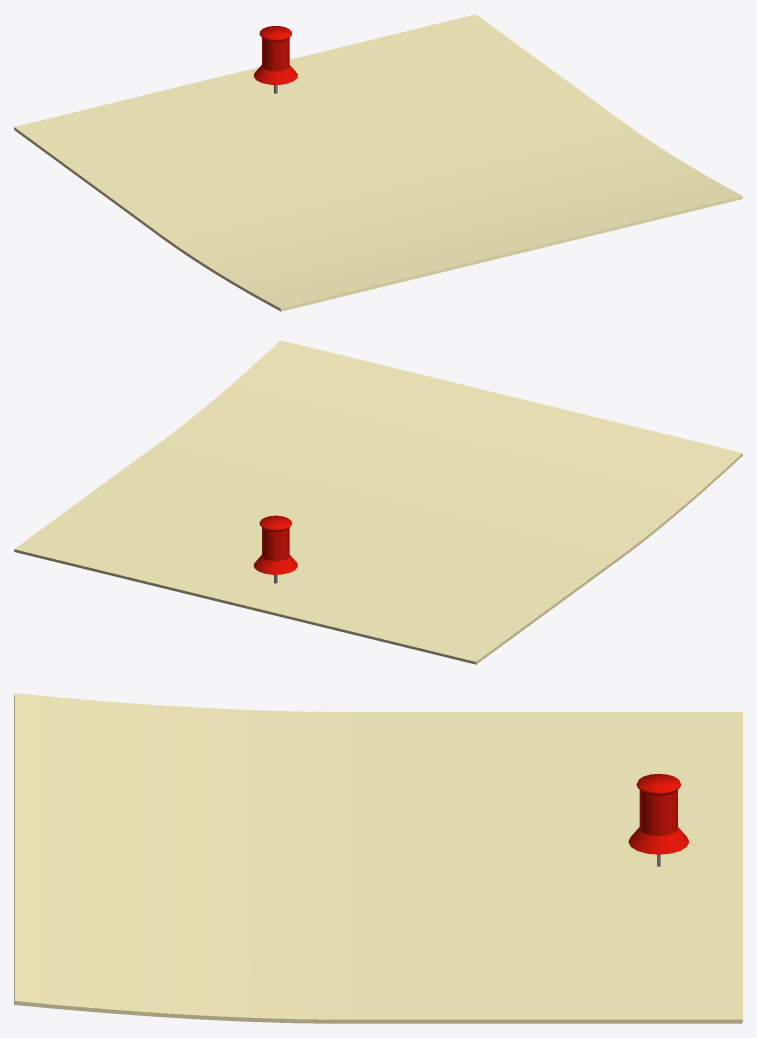
The model's file is post-it.gltf.
The picture shows the model from 3 angles, top to bottom: view 1: azimuth 30°, elevation 25°; view 2: azimuth 150°, elevation 25°; view 3: azimuth 270°, elevation 25°; orthographic projection. The views are drawn at different scales.
Parts seen in each view (by area): view 1: Post-it, Push-pin; view 2: Post-it, Push-pin; view 3: Post-it, Push-pin.
Boxes of the visible parts, <box> form: Post-it: <box>14,14,742,311</box>; Push-pin: <box>253,26,297,93</box>; Post-it: <box>14,340,742,664</box>; Push-pin: <box>253,515,297,583</box>; Post-it: <box>14,693,742,1023</box>; Push-pin: <box>628,774,689,866</box>.
Bounding box in the file's own units: 3 × 0.3955 × 3.
